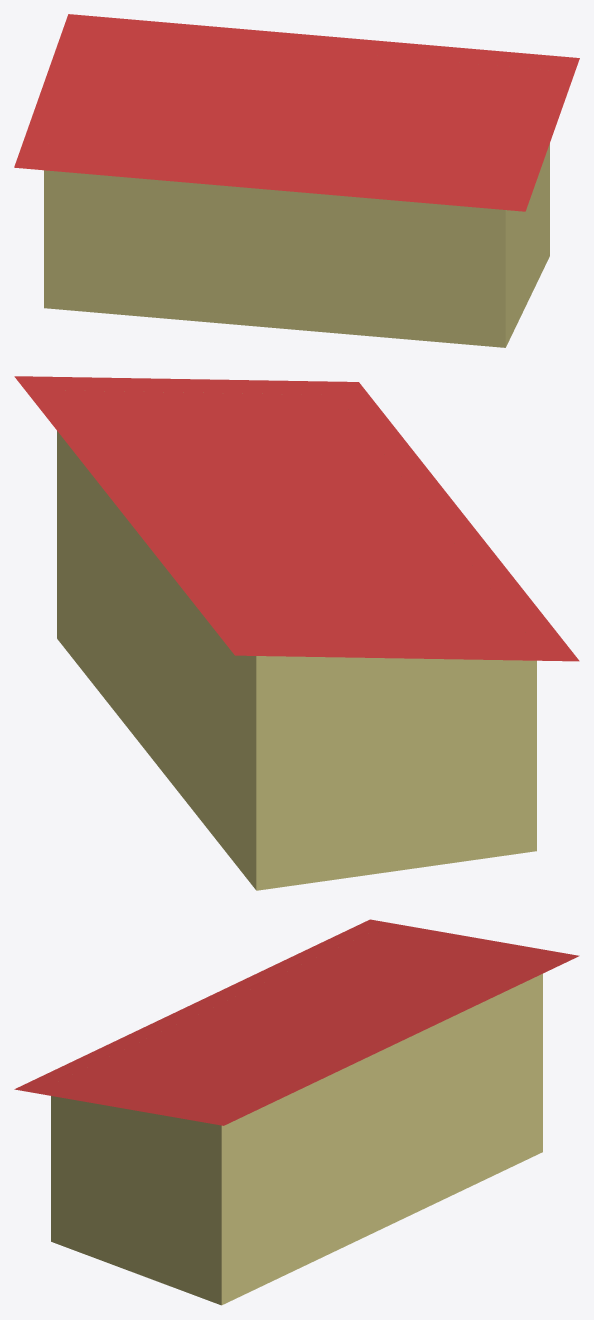
3 renders of one model, top to bottom at view 1: azimuth 30°, elevation 25°; view 2: azimuth 150°, elevation 25°; view 3: azimuth 270°, elevation 25°, orthographic. The views are drawn at different scales.
Bounding box in the file's own units: 22.43 × 21.59 × 8.22.
